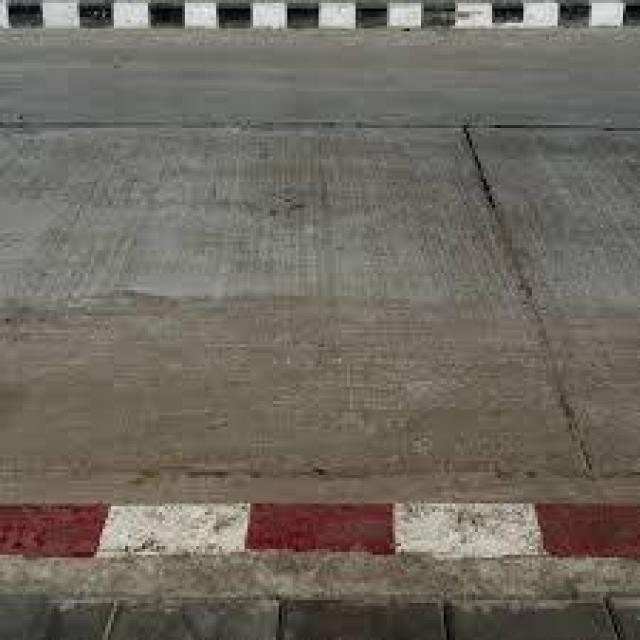curb: (9, 491, 640, 557), (1, 591, 635, 640), (1, 1, 636, 32)
